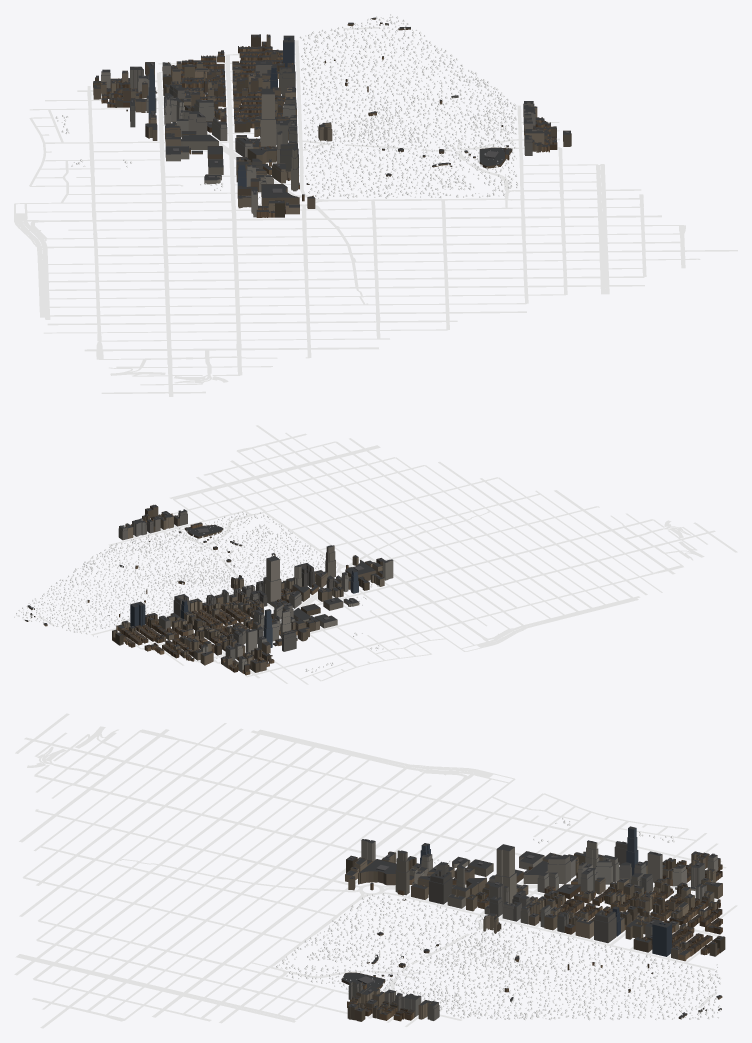
File: manhattan_-01_-01.glb
3 views of the same model, one above another, from view 1: azimuth 30°, elevation 25°; view 2: azimuth 150°, elevation 25°; view 3: azimuth 270°, elevation 25° (orthographic). The views are drawn at different scales.
Parts seen in each view (by area): view 1: ROAD_-01_-01, BLD_midrise_-01_-01, TREE_-01_-01, BLD_lowrise_-01_-01, BLD_towers_-01_-01; view 2: ROAD_-01_-01, BLD_midrise_-01_-01, TREE_-01_-01, BLD_lowrise_-01_-01, BLD_towers_-01_-01; view 3: ROAD_-01_-01, BLD_midrise_-01_-01, TREE_-01_-01, BLD_towers_-01_-01, BLD_lowrise_-01_-01.
Part boxes in pixels (<box>): ROAD_-01_-01: <box>14,27,737,396</box>; BLD_midrise_-01_-01: <box>93,34,571,217</box>; TREE_-01_-01: <box>55,14,518,205</box>; BLD_lowrise_-01_-01: <box>93,17,557,217</box>; BLD_towers_-01_-01: <box>130,35,298,217</box>; ROAD_-01_-01: <box>37,425,737,684</box>; BLD_midrise_-01_-01: <box>112,504,384,673</box>; TREE_-01_-01: <box>14,512,383,672</box>; BLD_lowrise_-01_-01: <box>25,513,382,675</box>; BLD_towers_-01_-01: <box>130,545,393,652</box>; ROAD_-01_-01: <box>14,713,737,1028</box>; BLD_midrise_-01_-01: <box>345,851,725,1021</box>; TREE_-01_-01: <box>276,818,721,1020</box>; BLD_towers_-01_-01: <box>361,826,671,956</box>; BLD_lowrise_-01_-01: <box>341,856,722,1021</box>.
Bounding box in the file's own units: 2824 × 236 × 2741.
